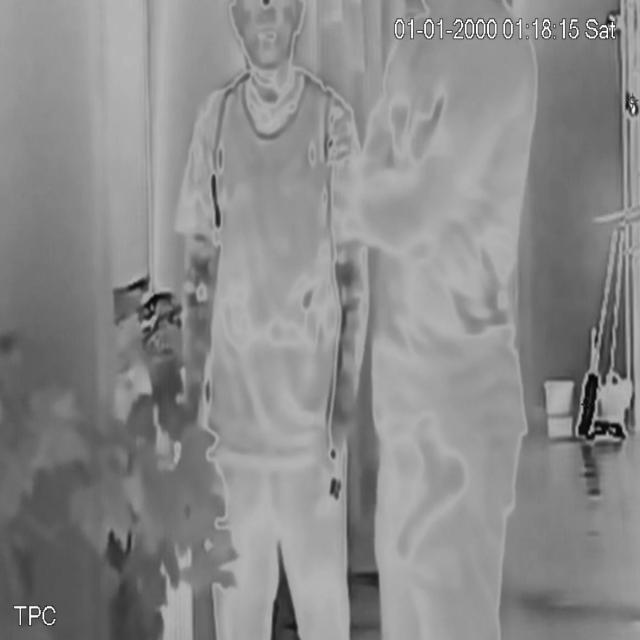Weapon: (386, 415, 480, 593)
